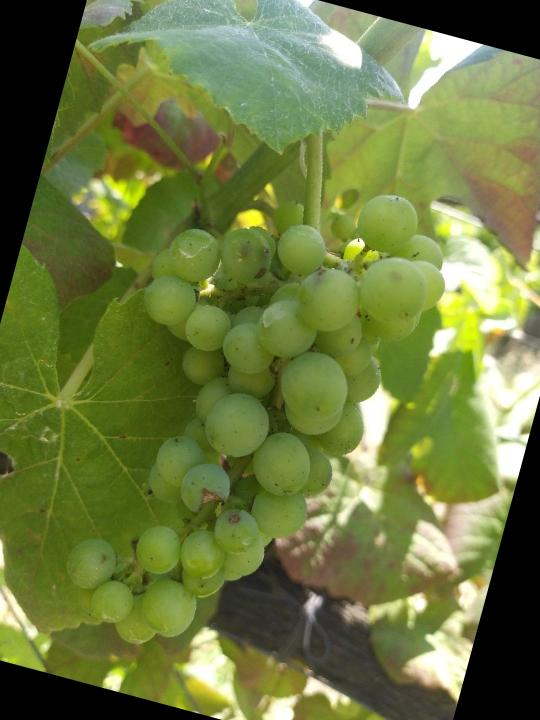grape: (44, 128, 471, 703)
